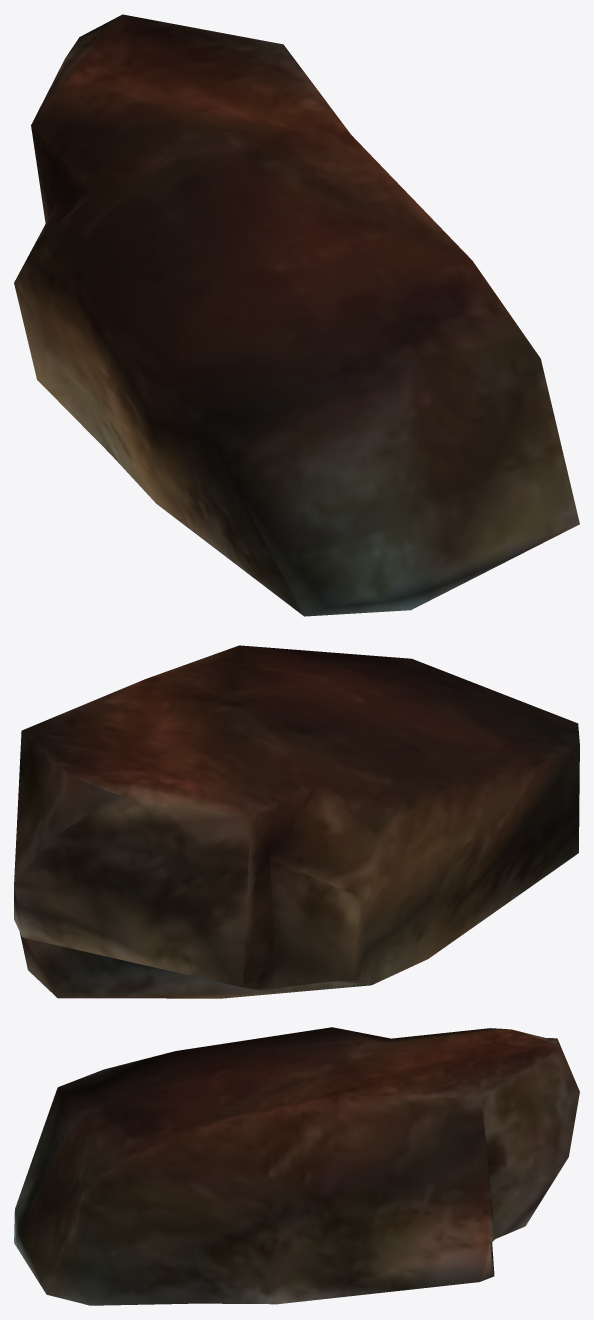
File: rock_07.glb
The picture shows the model from 3 angles, top to bottom: view 1: azimuth 30°, elevation 25°; view 2: azimuth 150°, elevation 25°; view 3: azimuth 270°, elevation 25°; orthographic projection. The views are drawn at different scales.
Visible parts, largest first — view 1: rock_07; view 2: rock_07; view 3: rock_07.
Boxes of the visible parts, x1,y1,x2,y2 form: rock_07: [14, 14, 579, 616]; rock_07: [14, 645, 579, 998]; rock_07: [14, 1027, 579, 1305].
Size of the model in its own units: 0.1656 by 0.1389 by 0.3168.
Materials: 1 (1 with a texture image).
